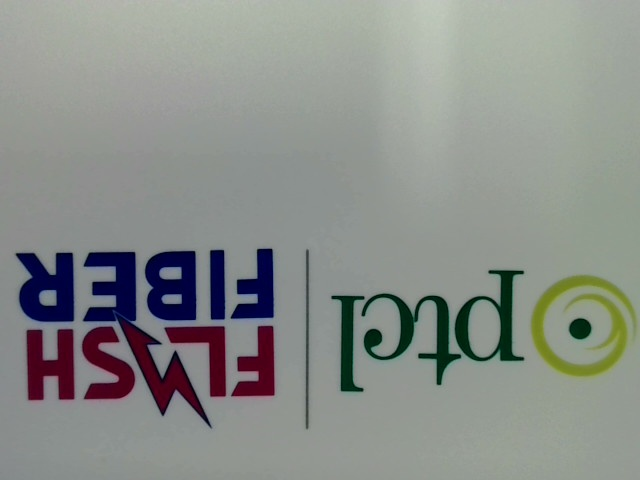BF_PTCL: (321, 260, 636, 396)
